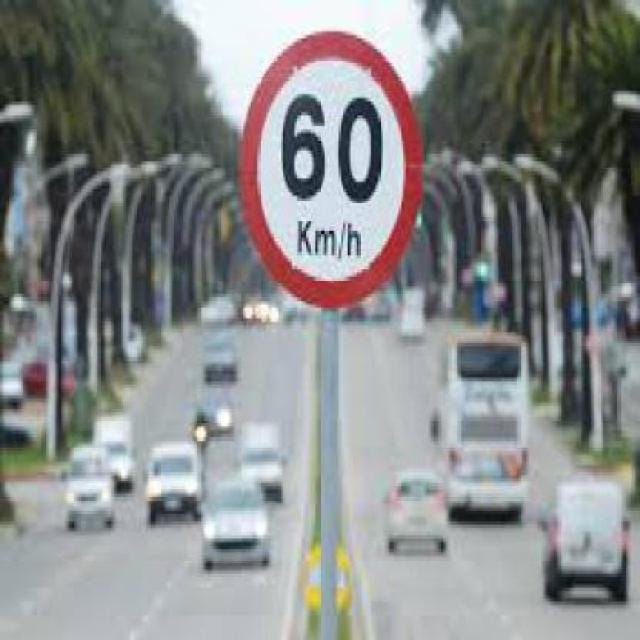forb_speed_over_60: (242, 35, 420, 307)
